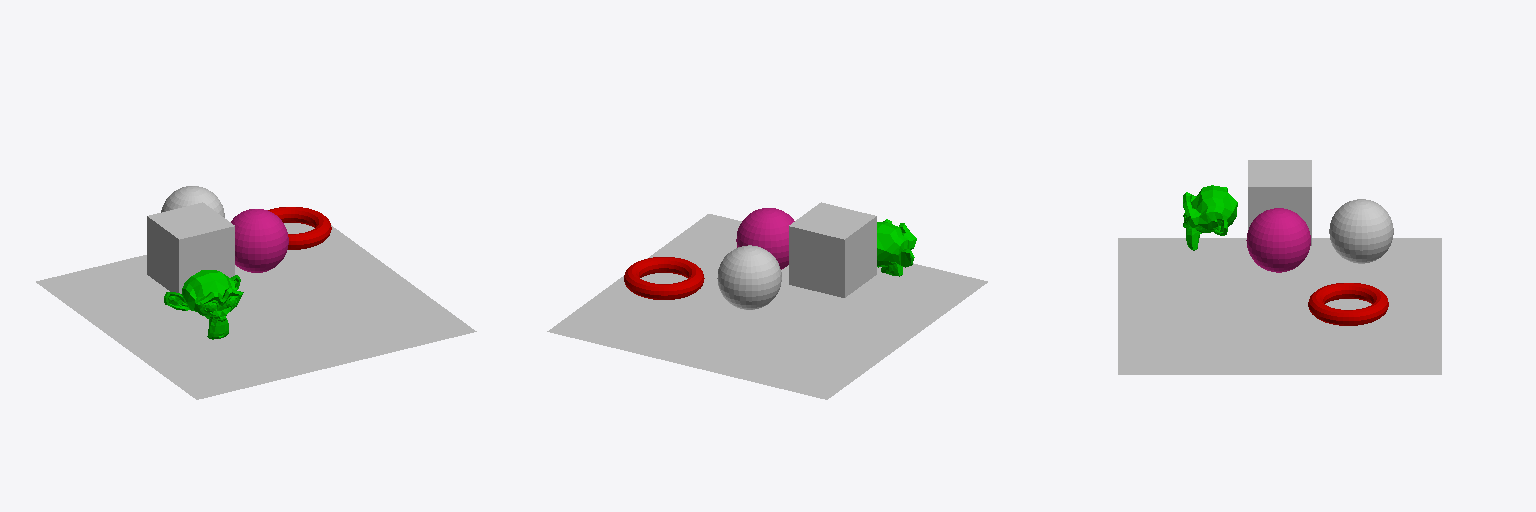
File: CornelBoxPBR.obj
3 renders of one model, left to right at view 1: azimuth 30°, elevation 25°; view 2: azimuth 150°, elevation 25°; view 3: azimuth 270°, elevation 25°, orthographic.
Parts seen in each view (by area): view 1: Plane, Cube, Suzanne, Sphere, Torus, Sphere.001; view 2: Plane, Cube, Sphere.001, Torus, Sphere, Suzanne; view 3: Plane, Cube, Sphere.001, Sphere, Torus, Suzanne.
Part boxes in pixels (bbox=[...]): Plane: bbox=[36, 223, 476, 399]; Cube: bbox=[147, 202, 234, 293]; Suzanne: bbox=[164, 270, 243, 339]; Sphere: bbox=[231, 209, 288, 272]; Torus: bbox=[268, 207, 331, 249]; Sphere.001: bbox=[161, 186, 224, 217]; Plane: bbox=[547, 214, 987, 399]; Cube: bbox=[789, 202, 876, 297]; Sphere.001: bbox=[717, 245, 781, 309]; Torus: bbox=[624, 257, 704, 299]; Sphere: bbox=[736, 208, 794, 269]; Suzanne: bbox=[877, 219, 916, 276]; Plane: bbox=[1118, 238, 1441, 374]; Cube: bbox=[1248, 160, 1311, 245]; Sphere.001: bbox=[1329, 199, 1393, 263]; Sphere: bbox=[1246, 208, 1310, 272]; Torus: bbox=[1308, 283, 1388, 325]; Suzanne: bbox=[1183, 185, 1237, 250].
Bounding box in the file's own units: 10 × 3.46 × 10.